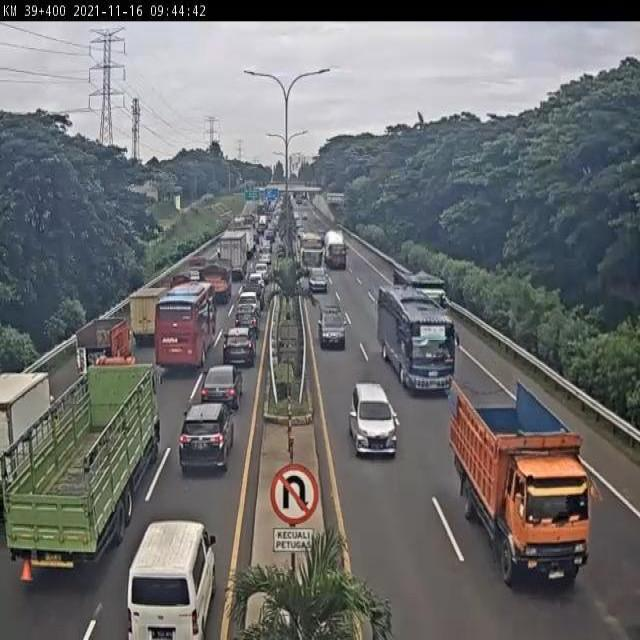big bus: (375, 286, 458, 394), (156, 286, 213, 371)
car: (129, 520, 216, 640), (178, 408, 233, 476), (348, 382, 396, 458), (200, 369, 241, 411), (317, 302, 347, 349), (221, 329, 253, 368), (232, 308, 259, 335), (236, 288, 261, 316)
small truck: (72, 320, 131, 375), (128, 287, 166, 345)
truck-l-: (4, 364, 161, 584), (391, 267, 450, 332)
truck-m-: (450, 378, 604, 594), (196, 264, 232, 304)
